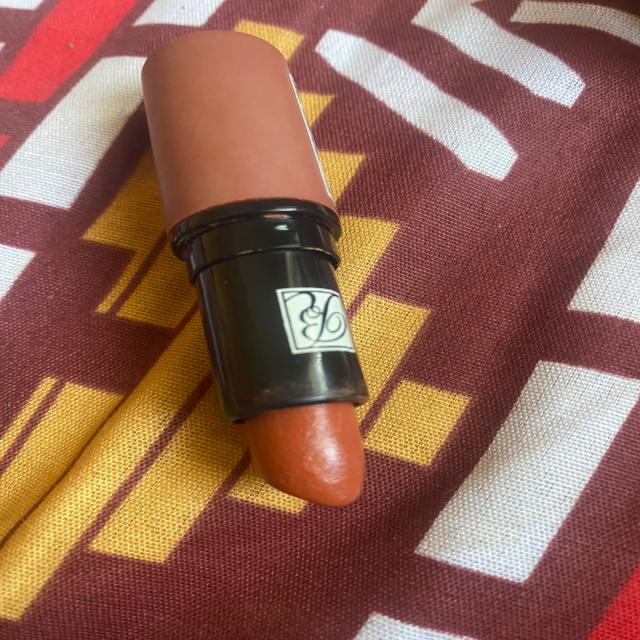lip stick: (110, 14, 404, 524)
